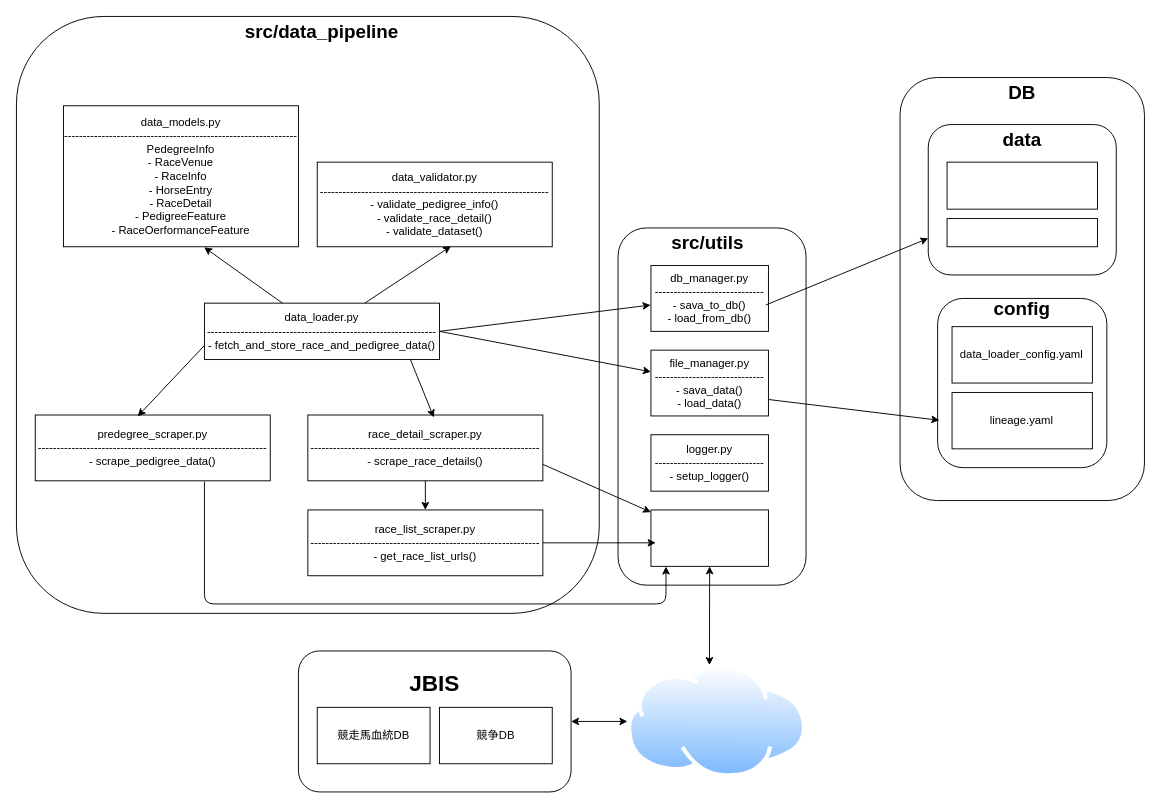
Some shapes in this 1161 by 808 pixel diagram are drawn without their labels. The box of each missing label's shape, as (x1, y1, x2, y2) in pixels:
raw/pedigree/pedigree.db raw/pedigree/sire_lineage.db: (946, 161, 1097, 209)
raw/race/race.db: (946, 218, 1097, 247)
retry_requests.py ----------------------------- - fetch_html(): (650, 509, 768, 566)
